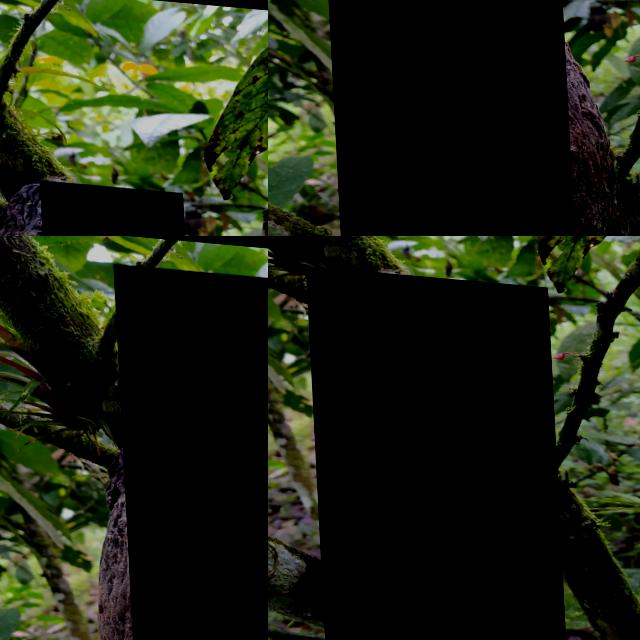Fitoftora: (304, 261, 564, 640), (37, 174, 188, 236)
Monilia: (320, 0, 572, 236), (113, 258, 268, 640)
